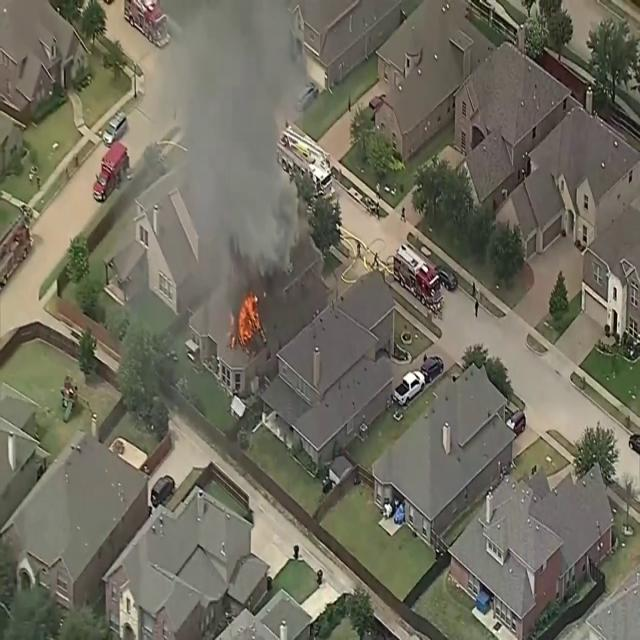Fire: (234, 282, 264, 348)
Smoke: (142, 1, 312, 303)
